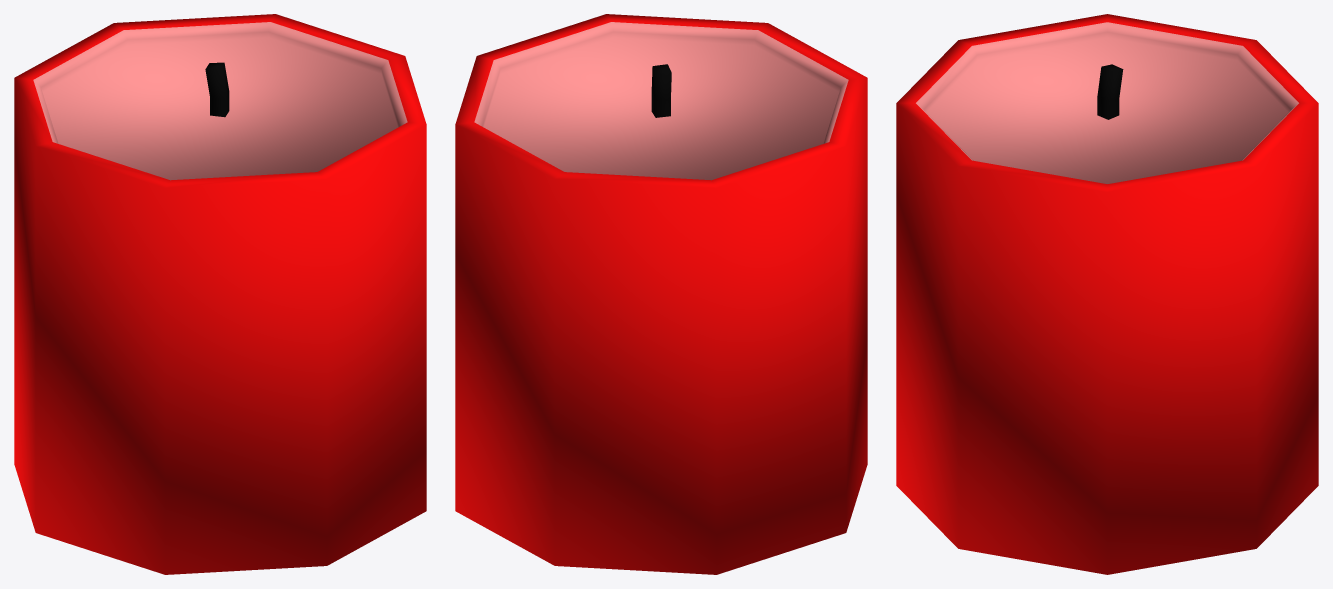
Rendered from candle.fbx.
3 renders of one model, left to right at view 1: azimuth 30°, elevation 25°; view 2: azimuth 150°, elevation 25°; view 3: azimuth 270°, elevation 25°, orthographic.
Parts seen in each view (by area): view 1: Candle; view 2: Candle; view 3: Candle.
Boxes of the visible parts, x1,y1,x2,y2 form: Candle: (14, 14, 426, 574); Candle: (455, 14, 867, 574); Candle: (896, 14, 1318, 574).
Bounding box in the file's own units: 191 × 209 × 191.
Materials: 1 (1 with a texture image).
